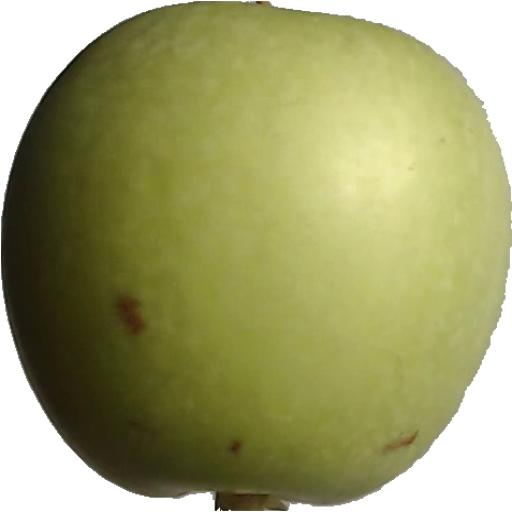apple-unripe: (0, 0, 510, 497)
